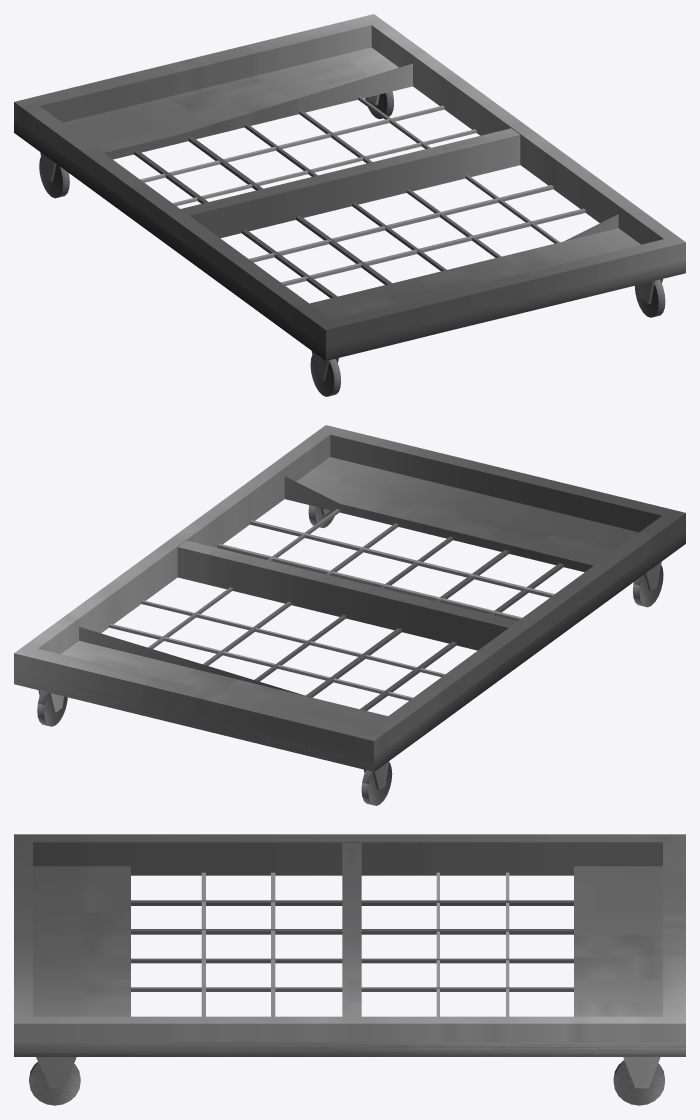
File: Cart.fbx
The picture shows the model from 3 angles, top to bottom: view 1: azimuth 30°, elevation 25°; view 2: azimuth 150°, elevation 25°; view 3: azimuth 270°, elevation 25°; orthographic projection. The views are drawn at different scales.
Parts seen in each view (by area): view 1: pCube1, pCylinder1, pCylinder2, pCylinder4; view 2: pCube1, pCylinder2, pCylinder1, pCylinder3; view 3: pCube1, pCylinder3, pCylinder4.
Part boxes in pixels (x1,y1,x2,y2): pCube1: (14,14,685,380); pCylinder1: (310,355,341,396); pCylinder2: (39,157,69,198); pCylinder4: (634,279,665,317); pCube1: (14,425,685,790); pCylinder2: (361,762,392,805); pCylinder1: (633,565,663,607); pCylinder3: (37,691,67,726); pCube1: (14,834,685,1088); pCylinder3: (613,1060,664,1105); pCylinder4: (29,1062,80,1105).
Size of the model in its own units: 2 by 0.4391 by 3.
1 material, 1 textured.
